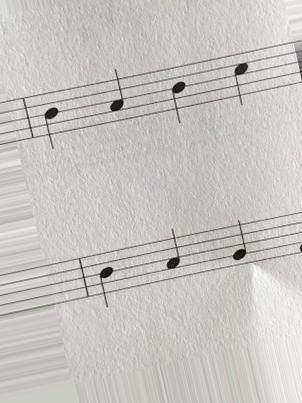note: (38, 93, 65, 153), (167, 68, 193, 126), (104, 67, 129, 126), (159, 226, 184, 285), (231, 48, 253, 114), (96, 253, 119, 314), (227, 216, 251, 271)
